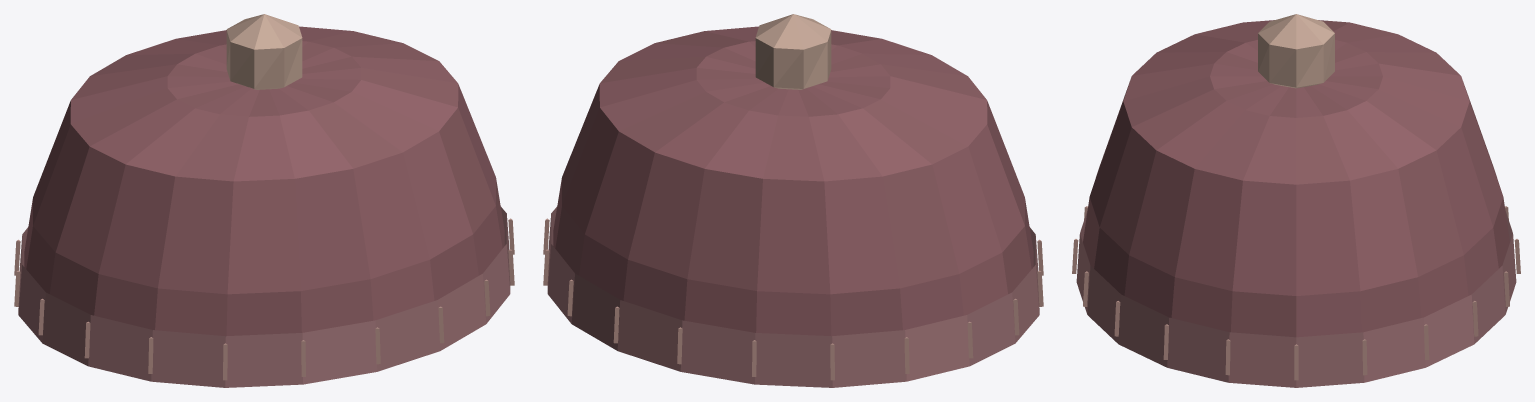
The model's file is hat_beanie.glb.
The picture shows the model from 3 angles, left to right: view 1: azimuth 30°, elevation 25°; view 2: azimuth 150°, elevation 25°; view 3: azimuth 270°, elevation 25°; orthographic projection. The views are drawn at different scales.
Visible parts, largest first — view 1: hat_beanie; view 2: hat_beanie; view 3: hat_beanie.
Part boxes in pixels (x1=…): hat_beanie: x1=14, y1=14, x2=514, y2=387; hat_beanie: x1=543, y1=14, x2=1043, y2=387; hat_beanie: x1=1072, y1=14, x2=1520, y2=387.
Size of the model in its own units: 0.5157 by 0.305 by 0.4563.
